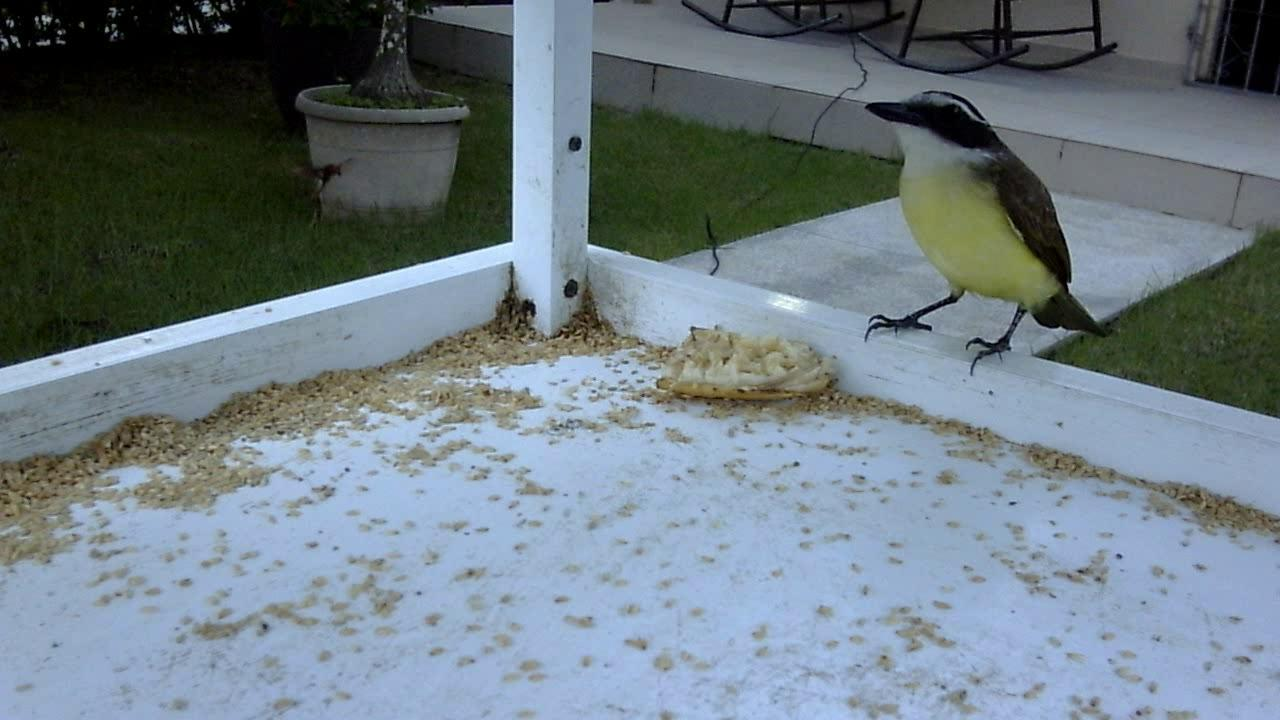bem_te_vi: (840, 78, 1119, 393)
